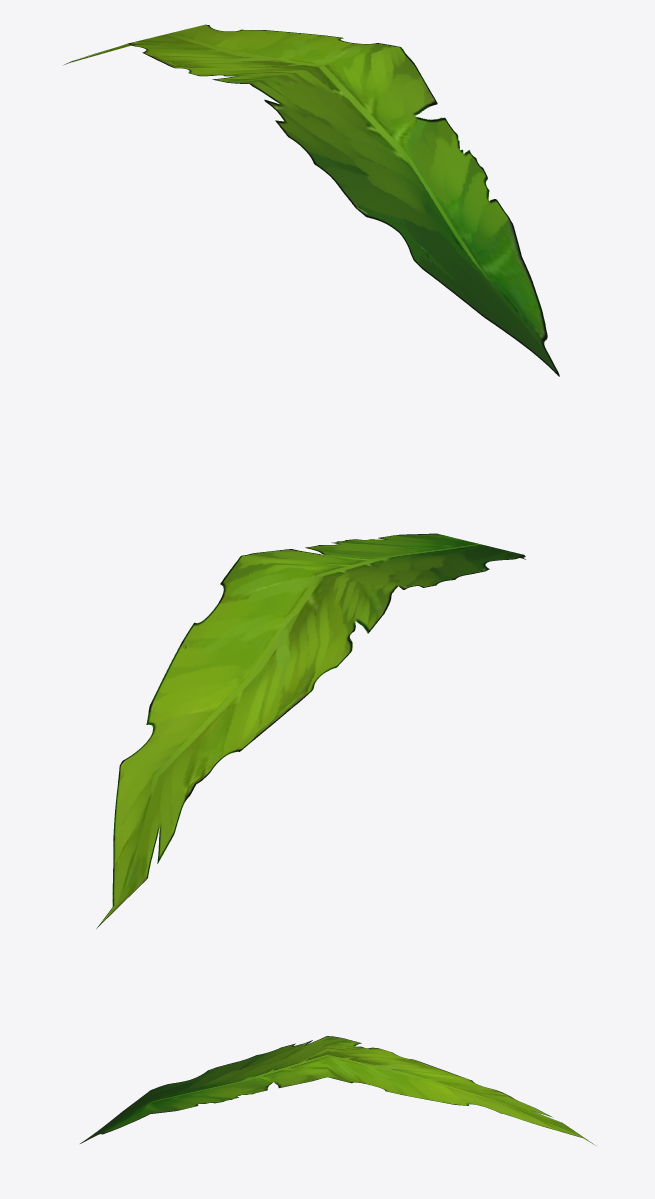
File: Hemp_07.fbx
3 renders of one model, top to bottom at view 1: azimuth 30°, elevation 25°; view 2: azimuth 150°, elevation 25°; view 3: azimuth 270°, elevation 25°, orthographic. The views are drawn at different scales.
Visible parts, largest first — view 1: Hemp_07; view 2: Hemp_07; view 3: Hemp_07.
Part boxes in pixels (x1,y1,x2,y2): Hemp_07: (63,24,559,376); Hemp_07: (96,533,525,928); Hemp_07: (80,1036,595,1145).
Size of the model in its own units: 23.5 by 25.11 by 120.
